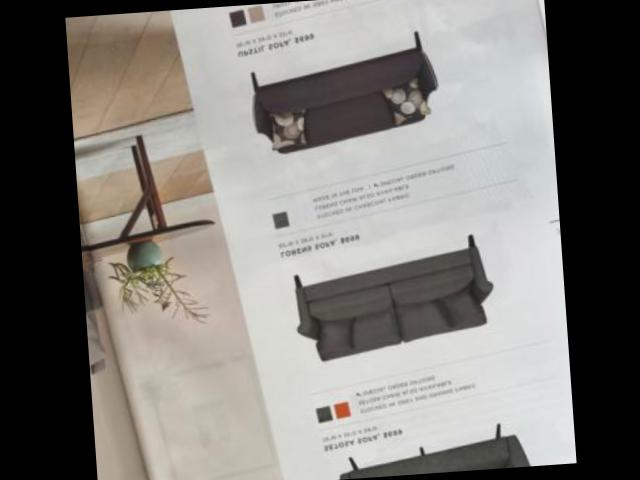cardboard paper: (171, 0, 576, 480), (64, 10, 285, 480)
